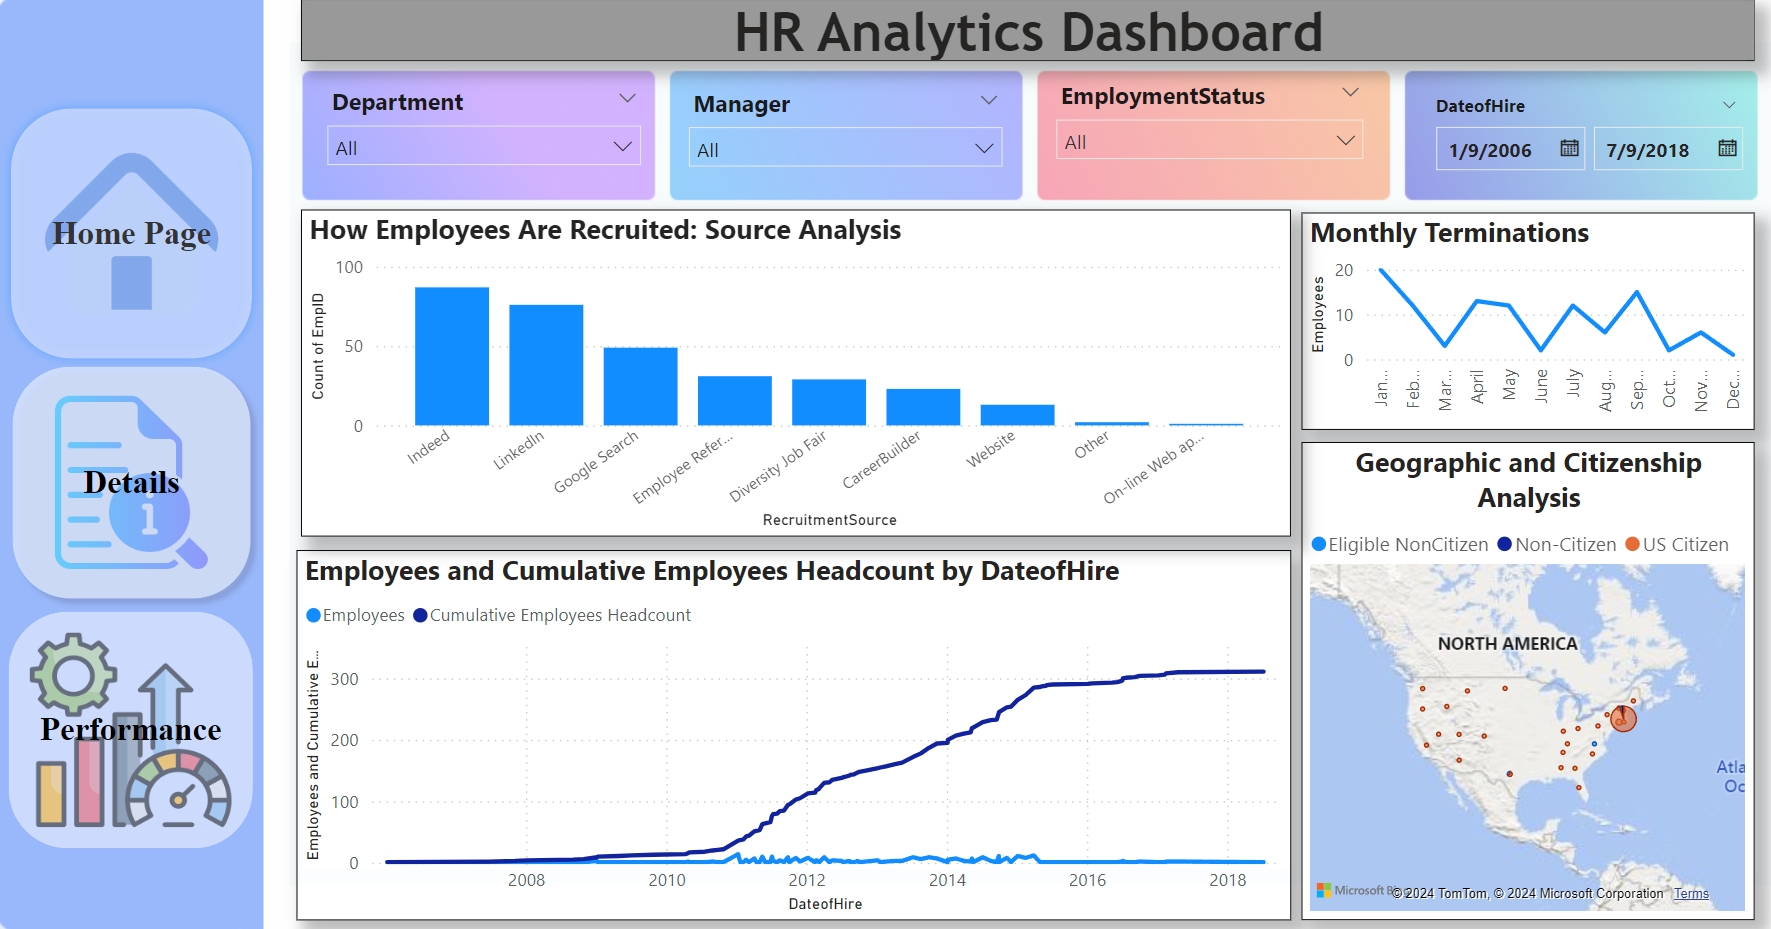

What the dashboard file says about the page in this screenshot:
{"tool":"powerbi","page":{"name":"HR Sheet 2","canvas":[1280,720],"ordinal":1},"visuals":[{"type":"slicer","fields":{"Values":["HRDataset_v14.EmploymentStatus"]},"box":[758.8,90.4,232.8,79],"z":0},{"type":"slicer","fields":{"Values":["HRDataset_v14.Department"]},"box":[253.6,94.6,237,78],"z":1000},{"type":"slicer","fields":{"Values":["HRDataset_v14.DateofHire"]},"box":[1018.7,100.8,233.9,78],"z":2000},{"type":"textbox","title":"HR Analytics Dashboard","box":[245.3,40.5,1007.3,42.6],"z":3000},{"type":"slicer","fields":{"Values":["HRDataset_v14.ManagerName"]},"box":[504.1,95.6,237,78],"z":4000},{"type":"actionButton","box":[36.4,108.1,182.9,189.2],"z":5000},{"type":"actionButton","box":[36.4,285.9,182.9,178.8],"z":6000},{"type":"actionButton","box":[42.6,464.6,169.4,164.2],"z":7000},{"type":"lineChart","fields":{"Y":["HRDataset_v14.Headcount","HRDataset_v14.Cumulative Headcount"],"Category":["HRDataset_v14.DateofHire"]},"box":[242.2,422,689.2,256.8],"z":8000},{"type":"lineChart","title":"Monthly Terminations","fields":{"Y":["HRDataset_v14.TerminatedEmployees"],"Category":["HRDataset_v14.DateofHire.Variation.Date Hierarchy.Month"]},"box":[938.6,188.1,313.9,150.7],"z":9000},{"type":"map","title":"Geographic and Citizenship Analysis","fields":{"Category":["HRDataset_v14.State"],"Size":["HRDataset_v14.Zip"],"Series":["HRDataset_v14.CitizenDesc"]},"box":[938.6,347.2,313.9,331.6],"z":10000},{"type":"clusteredColumnChart","title":"How Employees Are Recruited: Source Analysis","fields":{"Category":["HRDataset_v14.RecruitmentSource"],"Y":["HRDataset_v14.EmpID"]},"box":[245.3,186.1,686.1,226.6],"z":11000}]}

Visuals, with their boxes on the page's 1280x720 design canvas (x1, y1, x2, y2). These are canvas units, not pixel positions in the 1771x929 screenshot, which may show the page scaled, cropped or inside an application window:
slicer - HRDataset_v14.EmploymentStatus: detection(759, 90, 992, 169)
slicer - HRDataset_v14.Department: detection(254, 95, 491, 173)
slicer - HRDataset_v14.DateofHire: detection(1019, 101, 1253, 179)
"HR Analytics Dashboard" textbox: detection(245, 40, 1253, 83)
slicer - HRDataset_v14.ManagerName: detection(504, 96, 741, 174)
actionButton: detection(36, 108, 219, 297)
actionButton: detection(36, 286, 219, 465)
actionButton: detection(43, 465, 212, 629)
lineChart - HRDataset_v14.Headcount x HRDataset_v14.Cumulative Headcount: detection(242, 422, 931, 679)
"Monthly Terminations" lineChart: detection(939, 188, 1252, 339)
"Geographic and Citizenship Analysis" map: detection(939, 347, 1252, 679)
"How Employees Are Recruited: Source Analysis" clusteredColumnChart: detection(245, 186, 931, 413)
